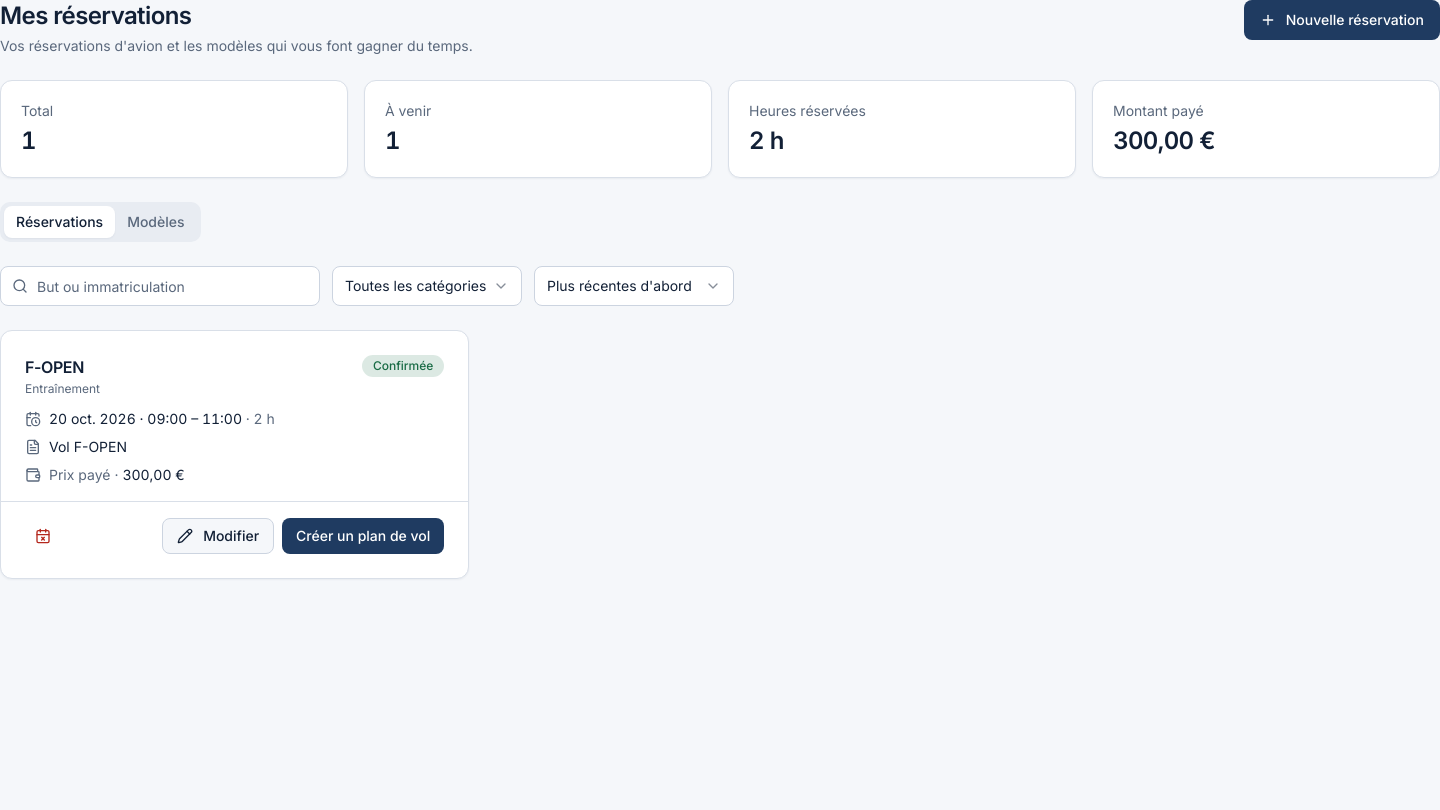
it: Mes réservations — annulation › ne supprime rien quand le membre conserve sa réservation
Expected: the text "F-OPEN" is shown, [25,357,84,377]
Click the button named "Annuler la réservation de F-OPEN".
click(43, 536)  # box [25,518,61,554]
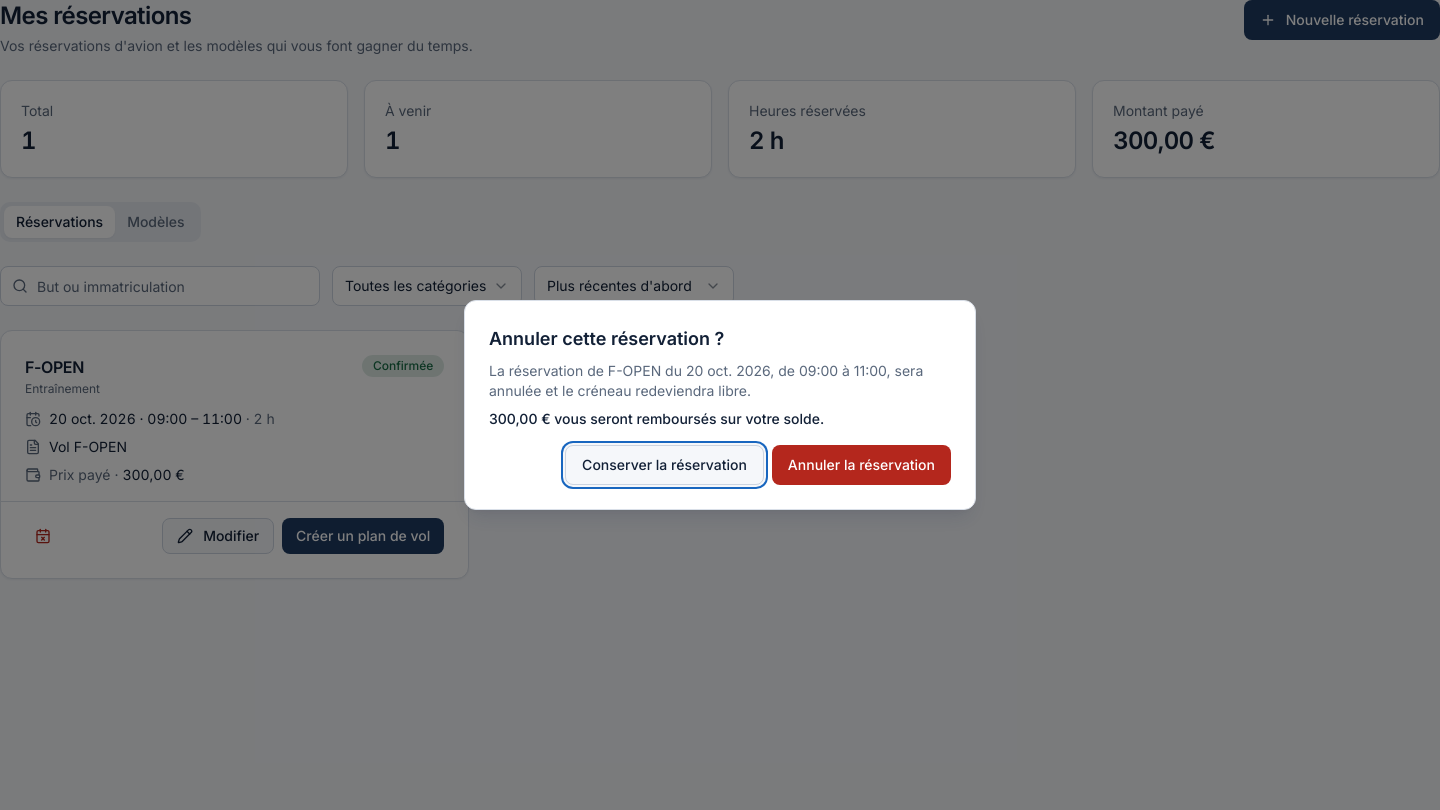
Click the button "Conserver la réservation".
click(664, 465)  # box [565,445,764,485]
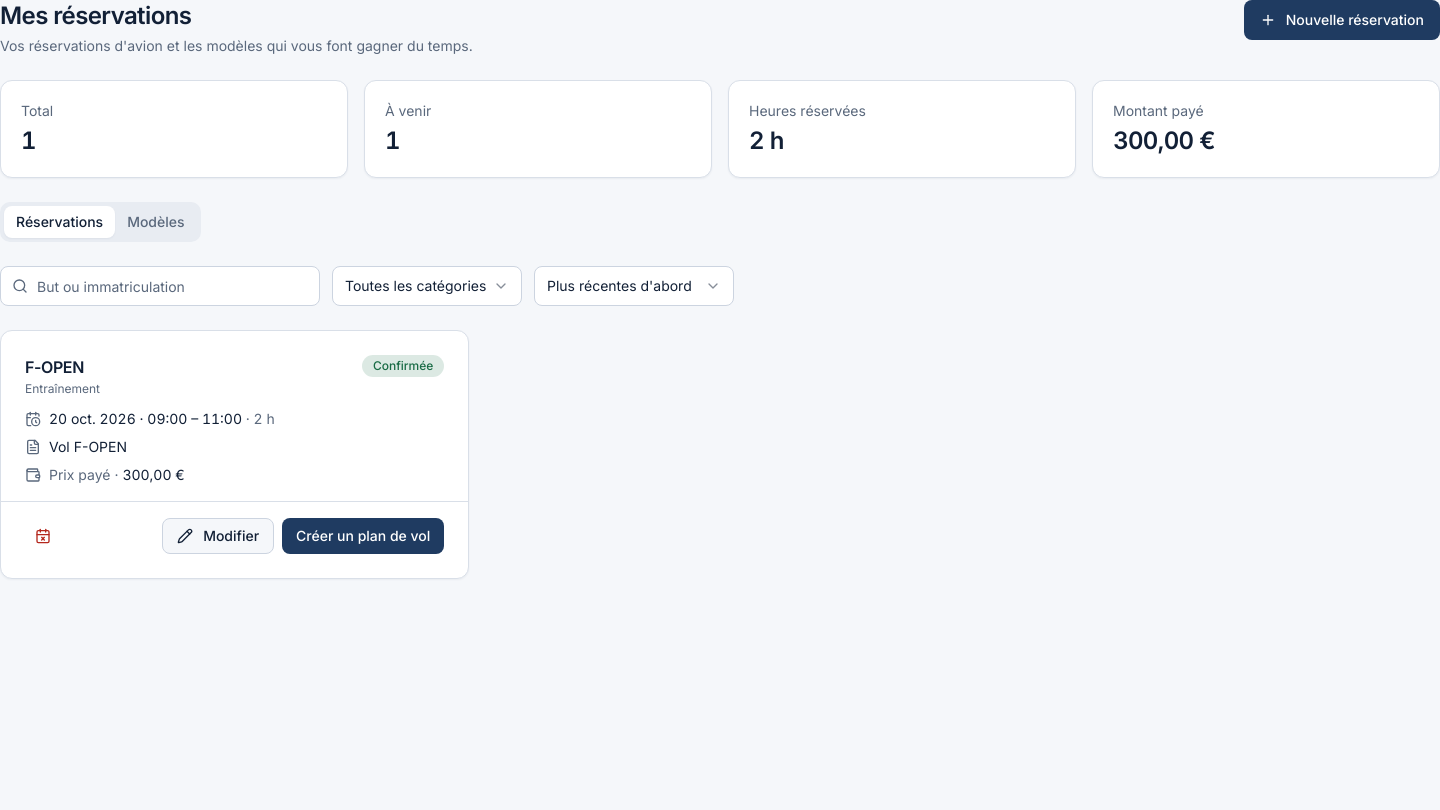
Expected: the text "F-OPEN" is shown, [25,357,84,377]
Expected: the dialog is gone
